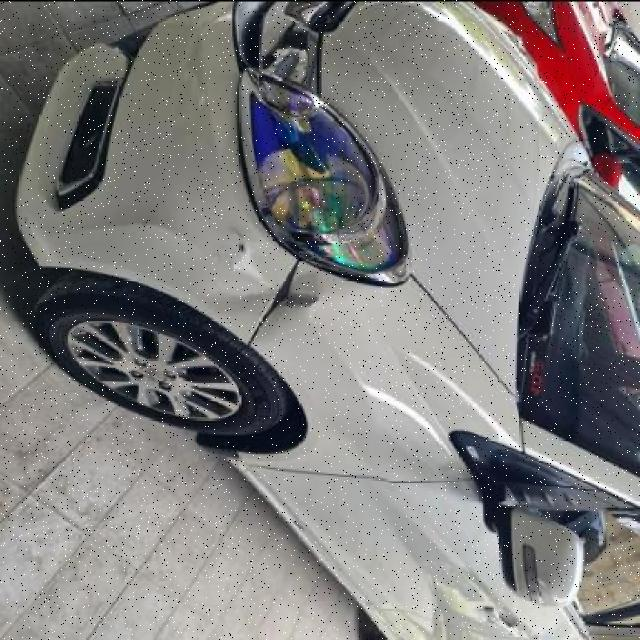damage: (183, 209, 330, 338)
